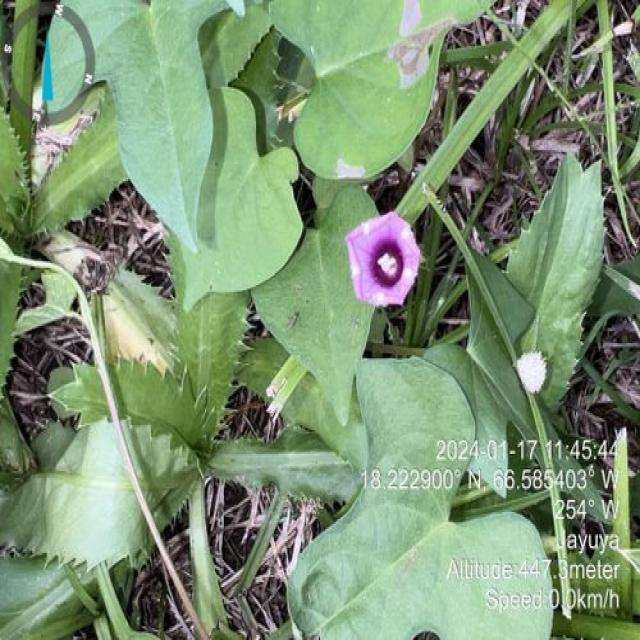ipomoea: (342, 208, 424, 312), (512, 346, 550, 399)
